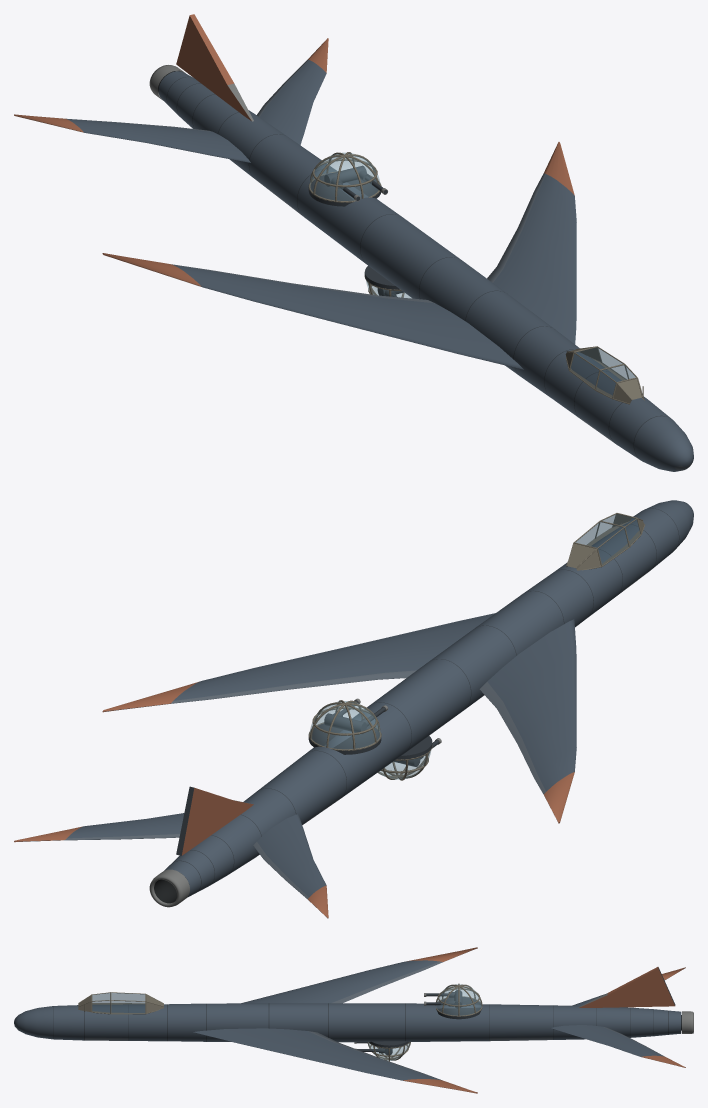
Rendered from geheimer-jet.glb.
The picture shows the model from 3 angles, top to bottom: view 1: azimuth 30°, elevation 25°; view 2: azimuth 150°, elevation 25°; view 3: azimuth 270°, elevation 25°; orthographic projection. The views are drawn at different scales.
Parts seen in each view (by area): view 1: JetAirframe, JetTopHousing, JetTopGlass, JetTopGuns; view 2: JetAirframe, JetTopHousing, JetTopGlass, JetBottomHousing, JetTopGuns; view 3: JetAirframe, JetTopHousing, JetTopGlass, JetBottomHousing, JetTopGuns, JetBottomGlass.
Boxes of the visible parts, x1=… form: JetAirframe: x1=14, y1=14, x2=693, y2=471; JetTopHousing: x1=308, y1=152, x2=381, y2=206; JetTopGlass: x1=310, y1=152, x2=380, y2=200; JetTopGuns: x1=324, y1=165, x2=387, y2=201; JetAirframe: x1=14, y1=500, x2=693, y2=918; JetTopHousing: x1=308, y1=700, x2=381, y2=754; JetTopGlass: x1=310, y1=701, x2=380, y2=748; JetBottomHousing: x1=377, y1=736, x2=432, y2=780; JetTopGuns: x1=324, y1=698, x2=387, y2=734; JetAirframe: x1=14, y1=947, x2=693, y2=1093; JetTopHousing: x1=435, y1=983, x2=482, y2=1019; JetTopGlass: x1=436, y1=984, x2=481, y2=1015; JetBottomHousing: x1=367, y1=1041, x2=410, y2=1061; JetTopGuns: x1=424, y1=990, x2=462, y2=1008; JetBottomGlass: x1=368, y1=1043, x2=409, y2=1060.
Size of the model in its own units: 8.46 by 2.52 by 16.78.
